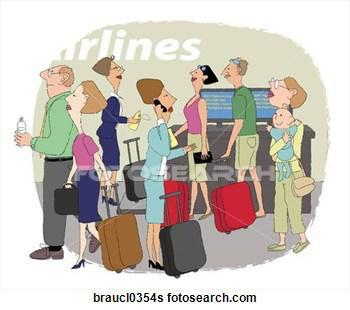person: (14, 60, 73, 261), (262, 72, 313, 257), (130, 73, 177, 269), (65, 80, 111, 269), (217, 54, 265, 220), (177, 60, 219, 220), (89, 53, 132, 207), (265, 105, 298, 180)
